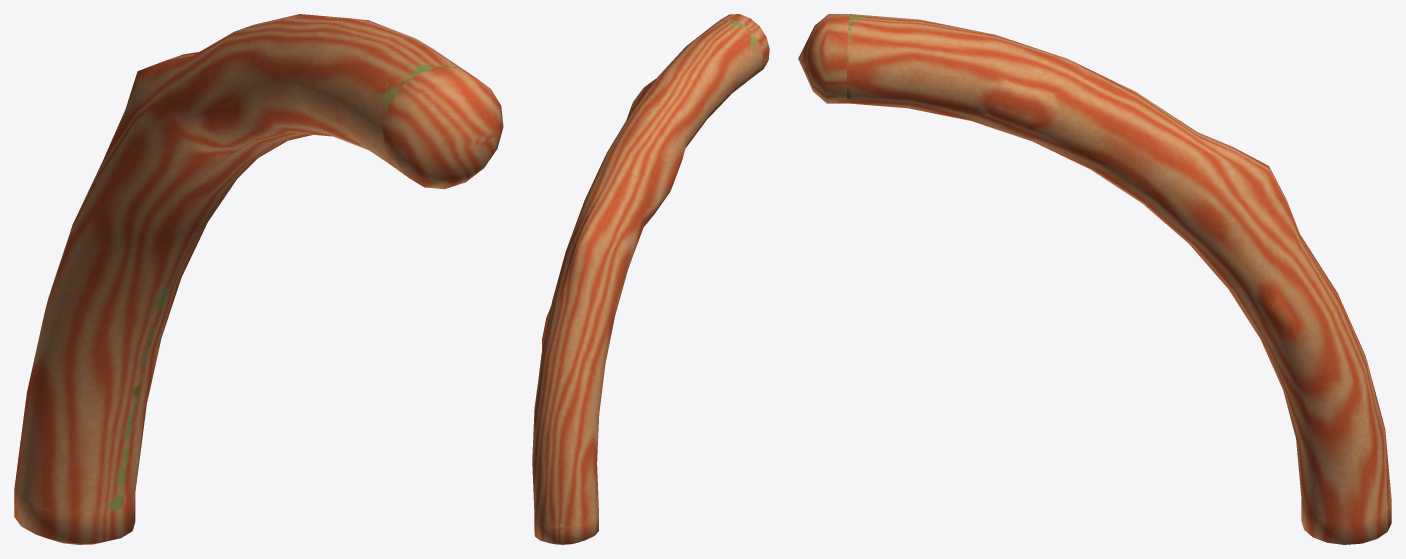
Rendered from Tree.fbx_Branch_Short.fbx.
3 views of the same model, side by side, from view 1: azimuth 30°, elevation 25°; view 2: azimuth 150°, elevation 25°; view 3: azimuth 270°, elevation 25° (orthographic). The views are drawn at different scales.
Parts seen in each view (by area): view 1: Branch_Short; view 2: Branch_Short; view 3: Branch_Short.
Part boxes in pixels (x1,y1,x2,y2): Branch_Short: (14,14,503,544); Branch_Short: (532,14,769,544); Branch_Short: (798,14,1391,544).
Bounding box in the file's own units: 418 × 1957 × 1994.
